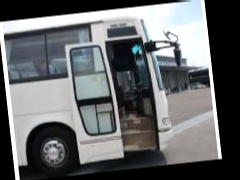bus: (1, 12, 188, 174)
